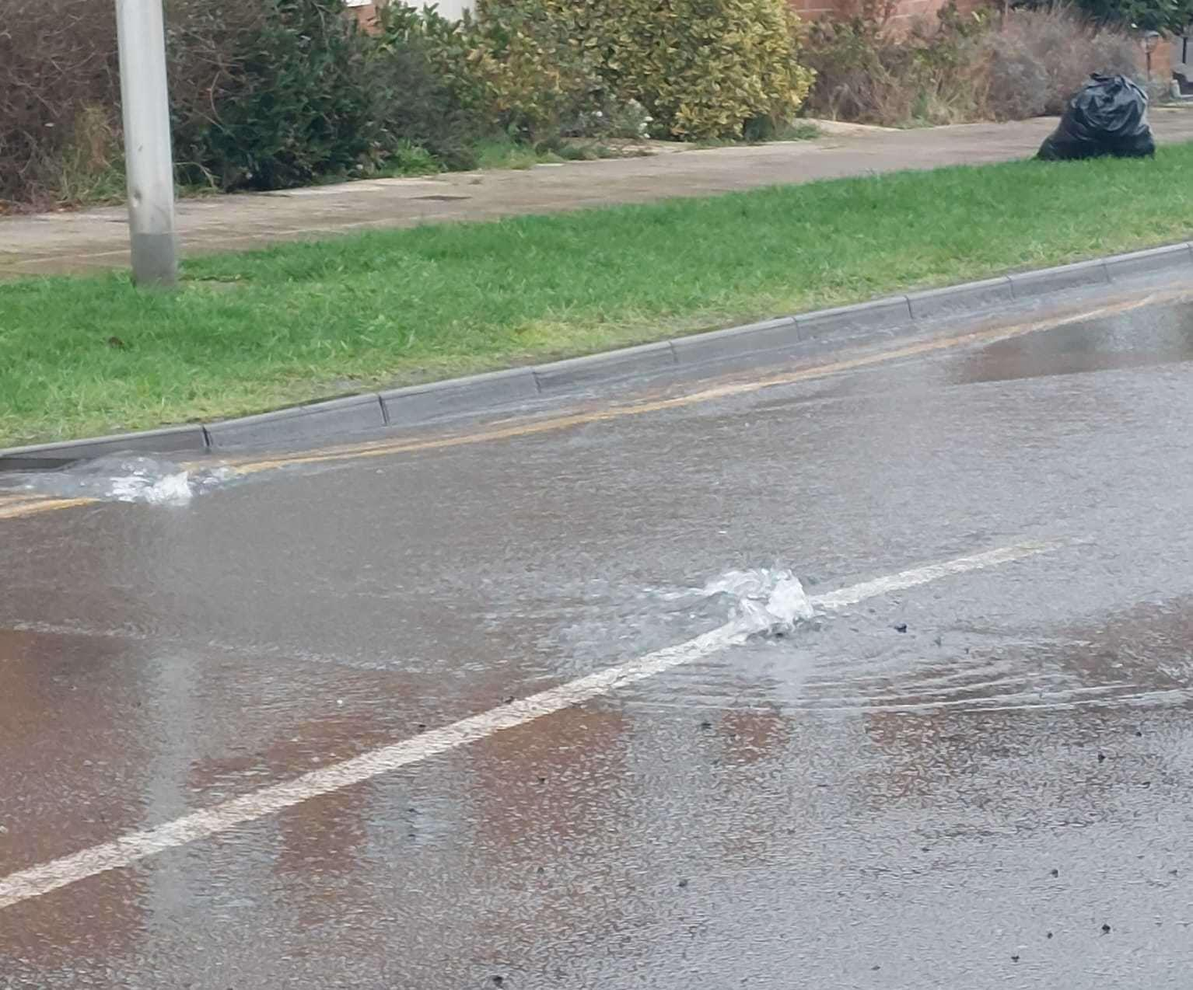water_leak: (79, 421, 865, 737)
